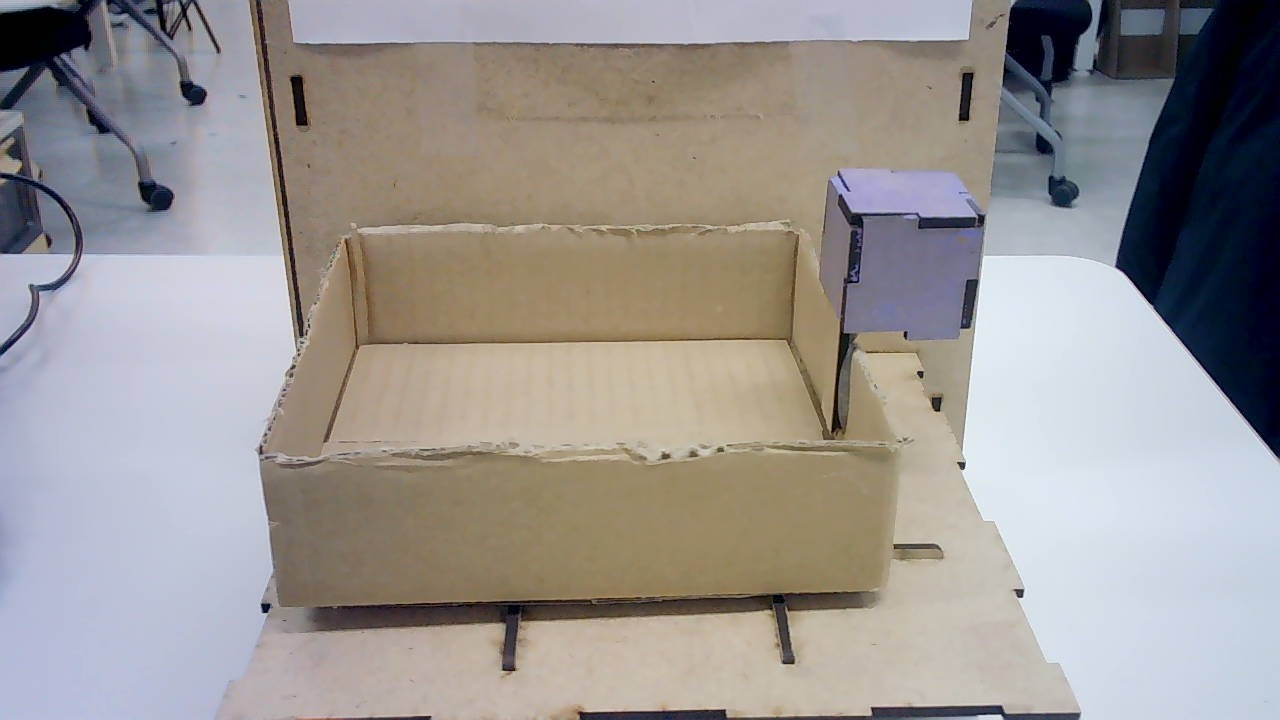pulple box: (819, 168, 987, 344)
